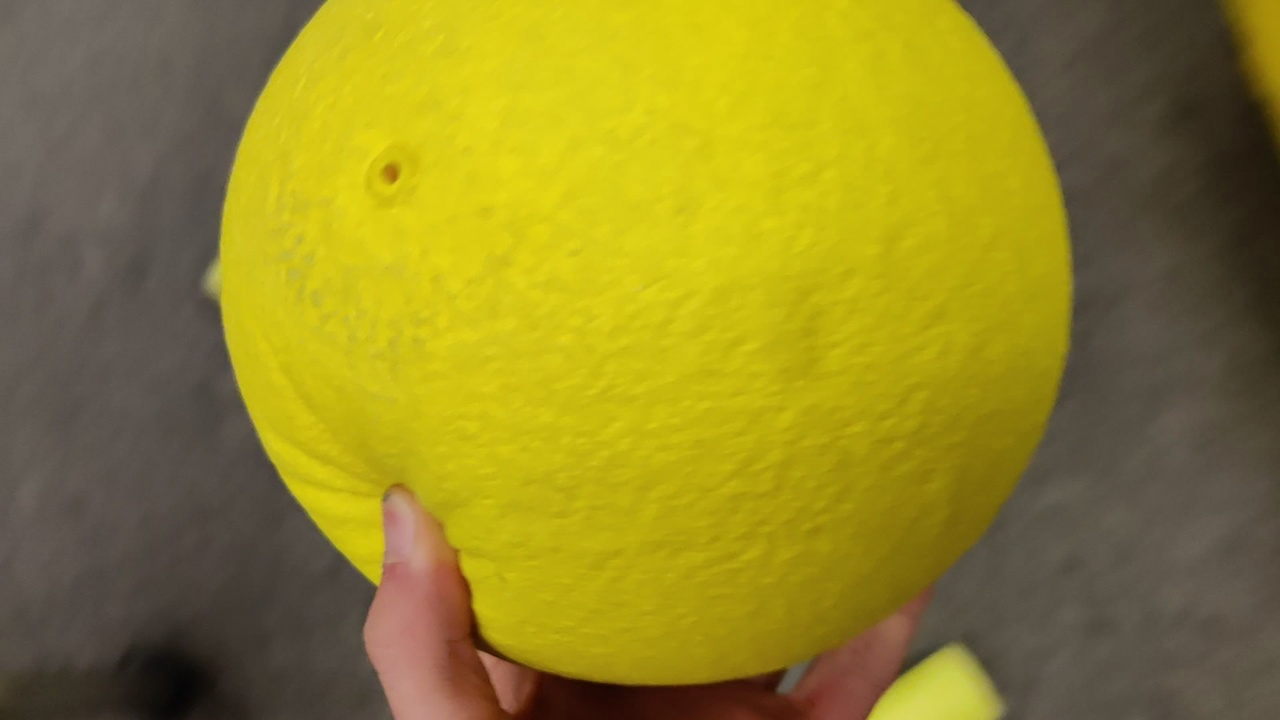Ball: (225, 4, 1077, 682)
